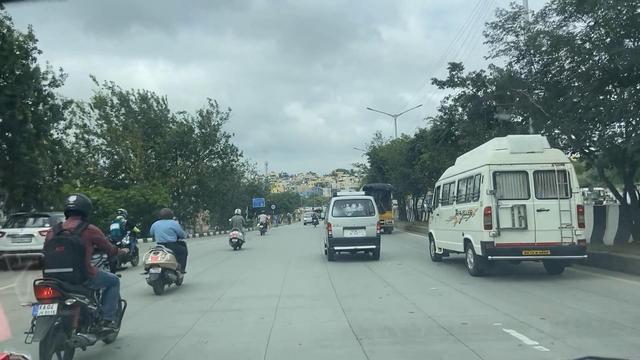HMV: (409, 141, 587, 279)
LMV: (33, 193, 131, 358), (327, 186, 382, 260), (153, 206, 188, 292)
